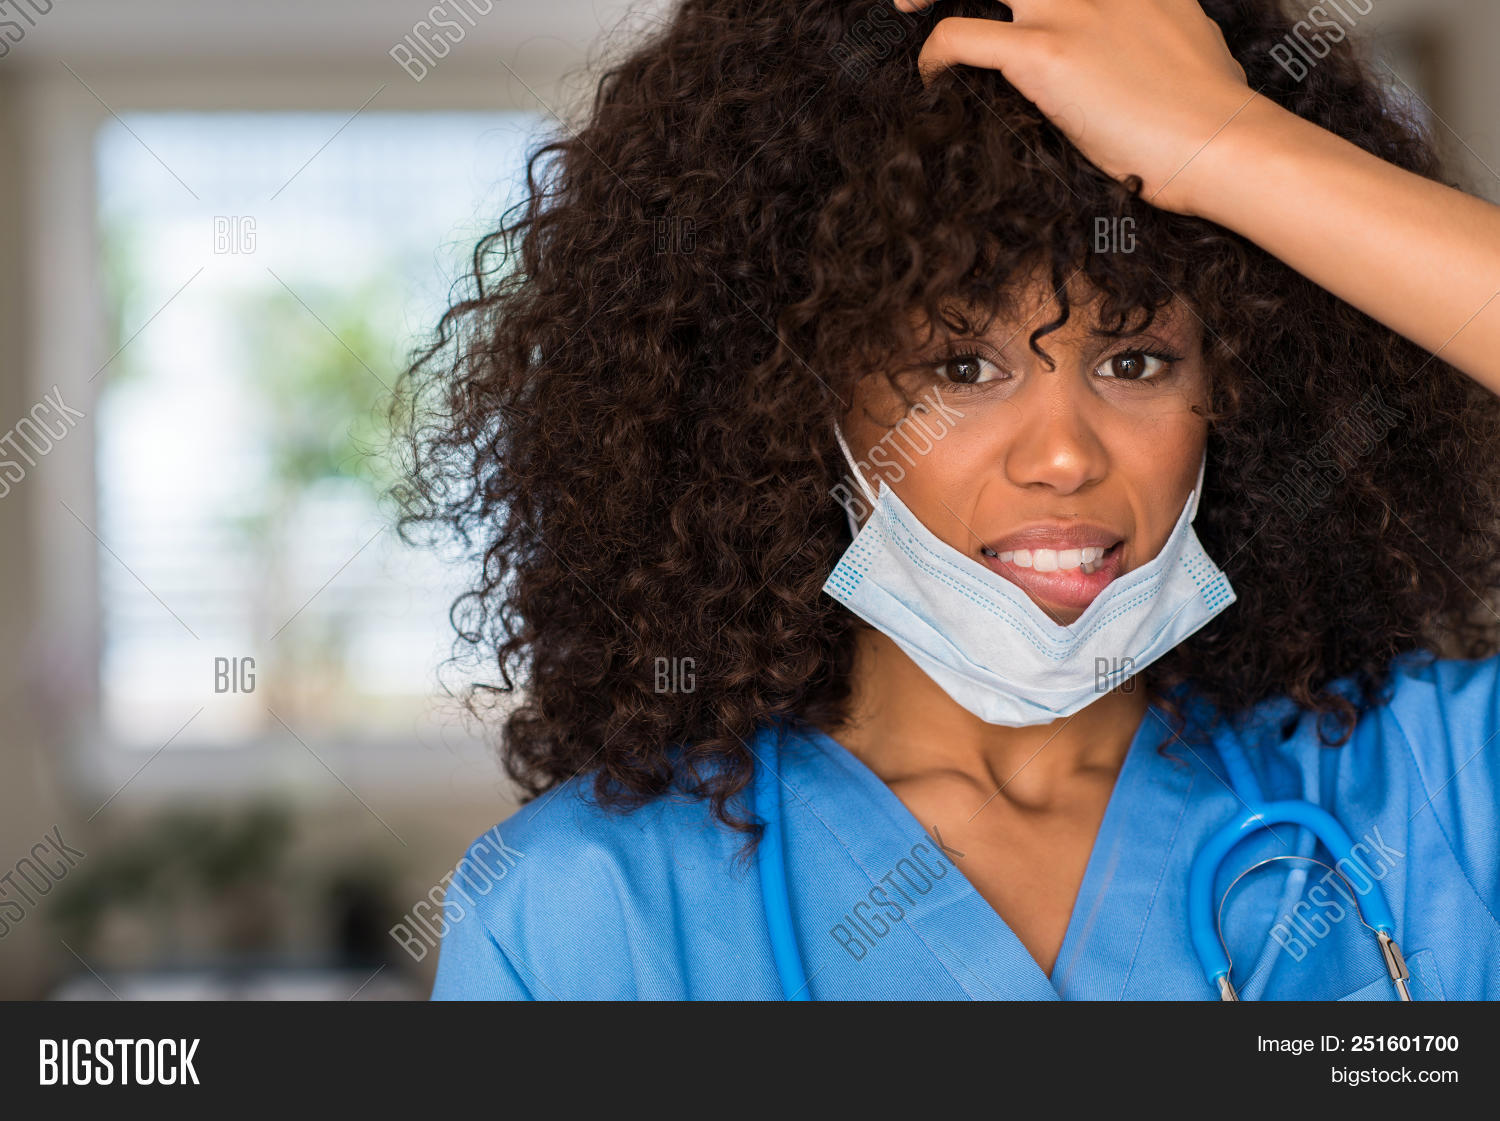mask_weared_incorrect: (813, 230, 1255, 750)
